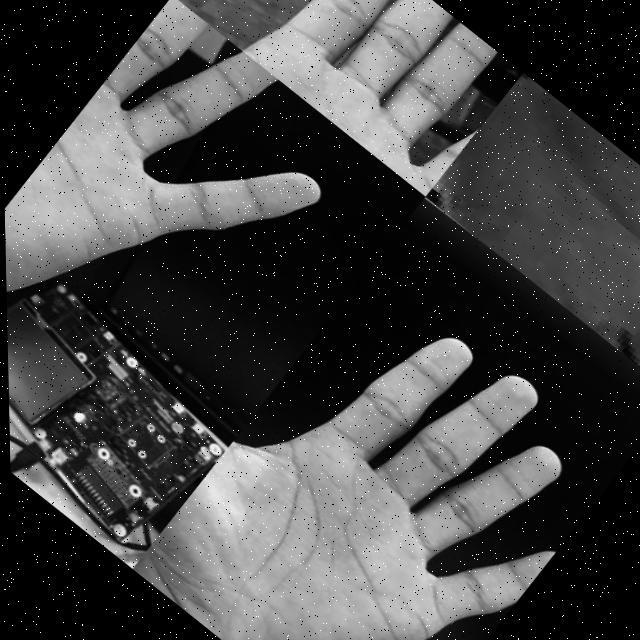no-gloves: (122, 257, 630, 640), (0, 0, 390, 466), (422, 71, 640, 397), (172, 0, 524, 196)
